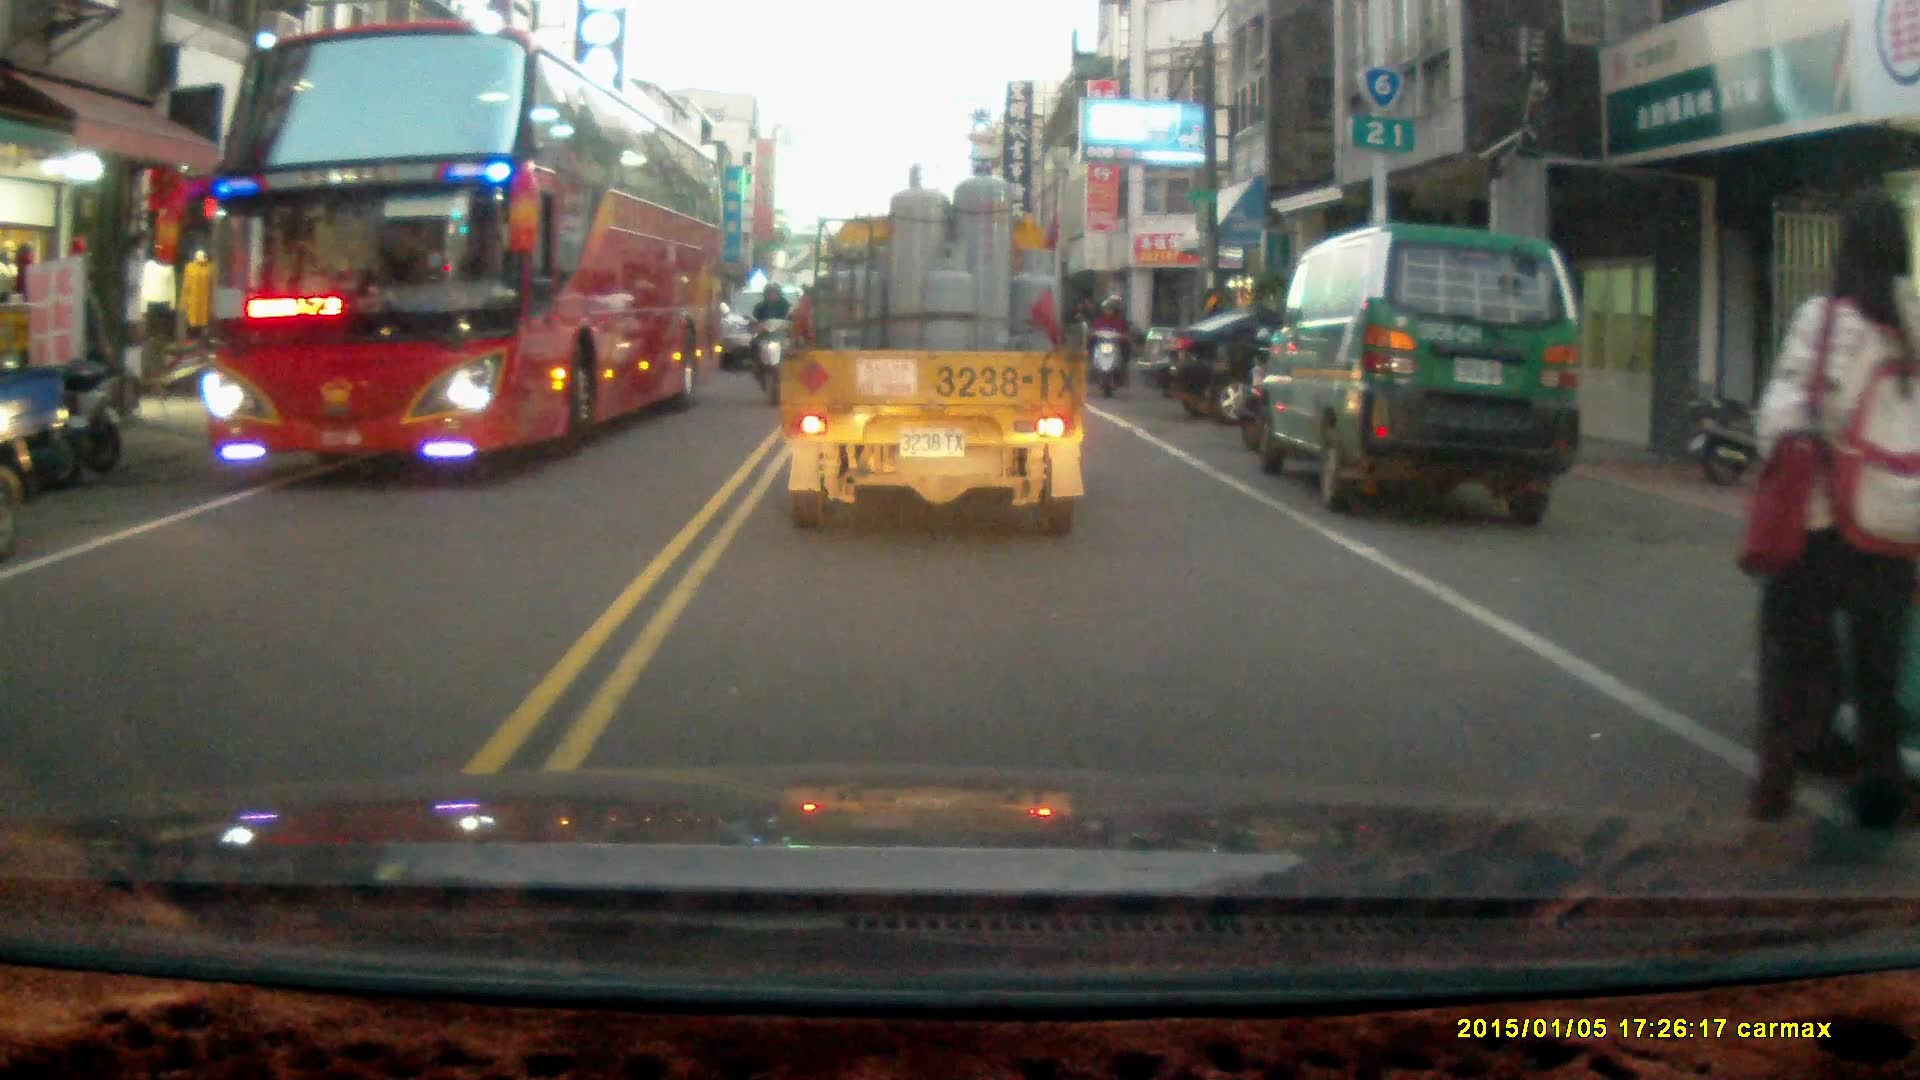pedestrian: (1742, 191, 1920, 865)
rider: (739, 280, 805, 412), (1085, 288, 1134, 395)
vehicle: (202, 12, 727, 469), (783, 156, 1089, 537), (1256, 221, 1586, 522), (1136, 304, 1458, 421), (1, 366, 95, 560), (703, 290, 829, 377)
